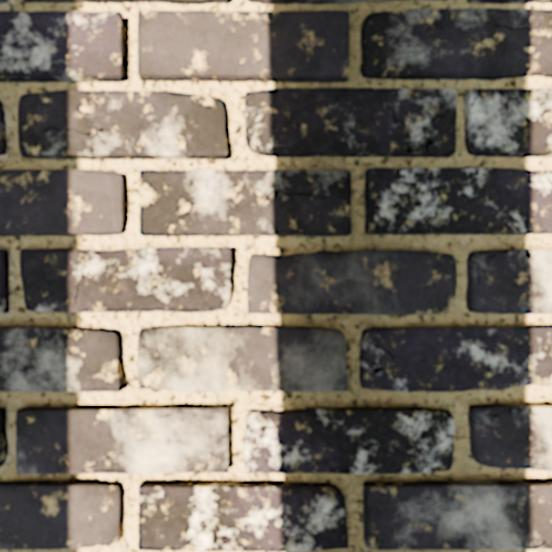brick: (139, 11, 349, 82), (245, 89, 455, 157), (139, 483, 348, 551), (19, 91, 228, 159), (17, 407, 228, 473), (141, 171, 351, 236), (245, 408, 453, 473), (362, 9, 551, 79), (21, 249, 233, 311), (139, 328, 348, 390), (247, 251, 455, 313), (364, 481, 551, 549), (361, 328, 551, 391), (365, 169, 551, 233), (0, 12, 124, 81), (0, 481, 123, 549), (0, 170, 125, 236), (0, 328, 122, 391), (464, 89, 551, 157), (469, 404, 551, 470), (467, 251, 551, 313), (0, 249, 10, 313), (25, 0, 230, 3), (0, 407, 9, 468), (249, 0, 394, 3), (0, 99, 7, 155), (467, 0, 551, 2), (0, 0, 9, 4)
crack: (485, 405, 536, 418), (488, 248, 534, 260), (499, 89, 521, 112), (203, 433, 215, 472), (471, 89, 482, 109), (530, 540, 551, 550), (520, 540, 525, 549), (225, 469, 230, 473)
